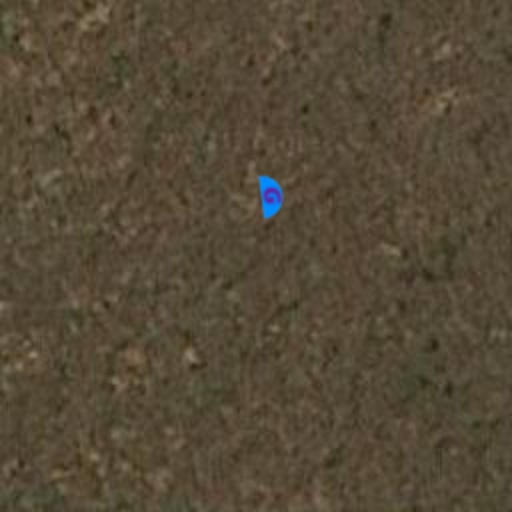semicircle: (246, 170, 298, 222)
